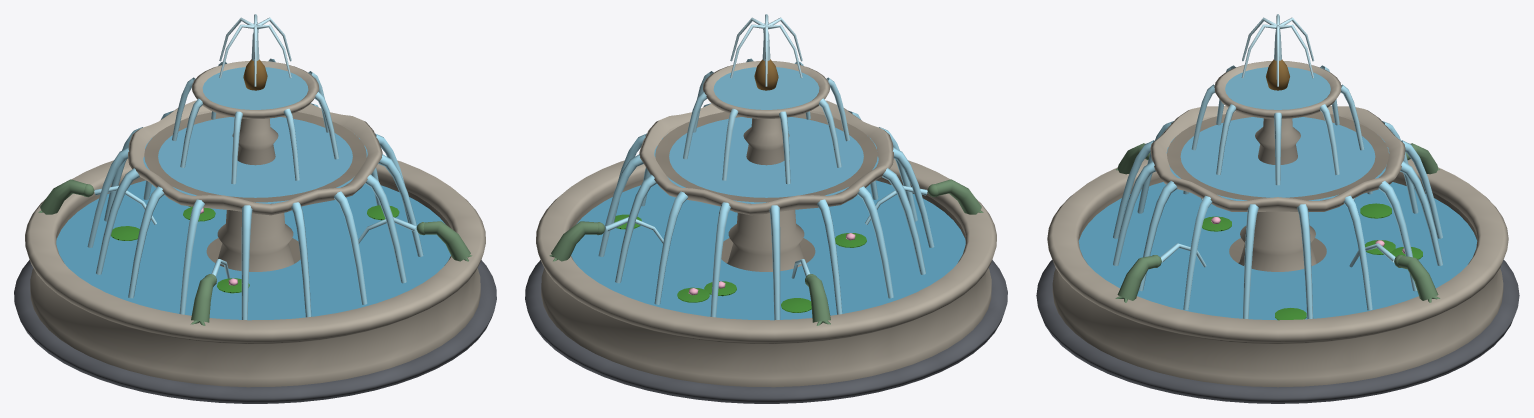
File: fountain_grand.glb
3 renders of one model, left to right at view 1: azimuth 30°, elevation 25°; view 2: azimuth 150°, elevation 25°; view 3: azimuth 270°, elevation 25°, orthographic.
Parts seen in each view (by area): view 1: fountain_grand_stone, fountain_grand_water, fountain_grand_bronze; view 2: fountain_grand_stone, fountain_grand_water, fountain_grand_bronze; view 3: fountain_grand_stone, fountain_grand_water, fountain_grand_bronze.
Boxes of the visible parts, x1=… form: fountain_grand_stone: x1=14, y1=61, x2=496, y2=403; fountain_grand_water: x1=56, y1=14, x2=450, y2=320; fountain_grand_bronze: x1=38, y1=59, x2=472, y2=325; fountain_grand_stone: x1=525, y1=61, x2=1007, y2=403; fountain_grand_water: x1=571, y1=14, x2=965, y2=320; fountain_grand_bronze: x1=549, y1=59, x2=983, y2=325; fountain_grand_stone: x1=1036, y1=61, x2=1519, y2=403; fountain_grand_water: x1=1078, y1=14, x2=1477, y2=320; fountain_grand_bronze: x1=1115, y1=59, x2=1440, y2=320.
Bounding box in the file's own units: 3.56 × 2.29 × 3.56.
